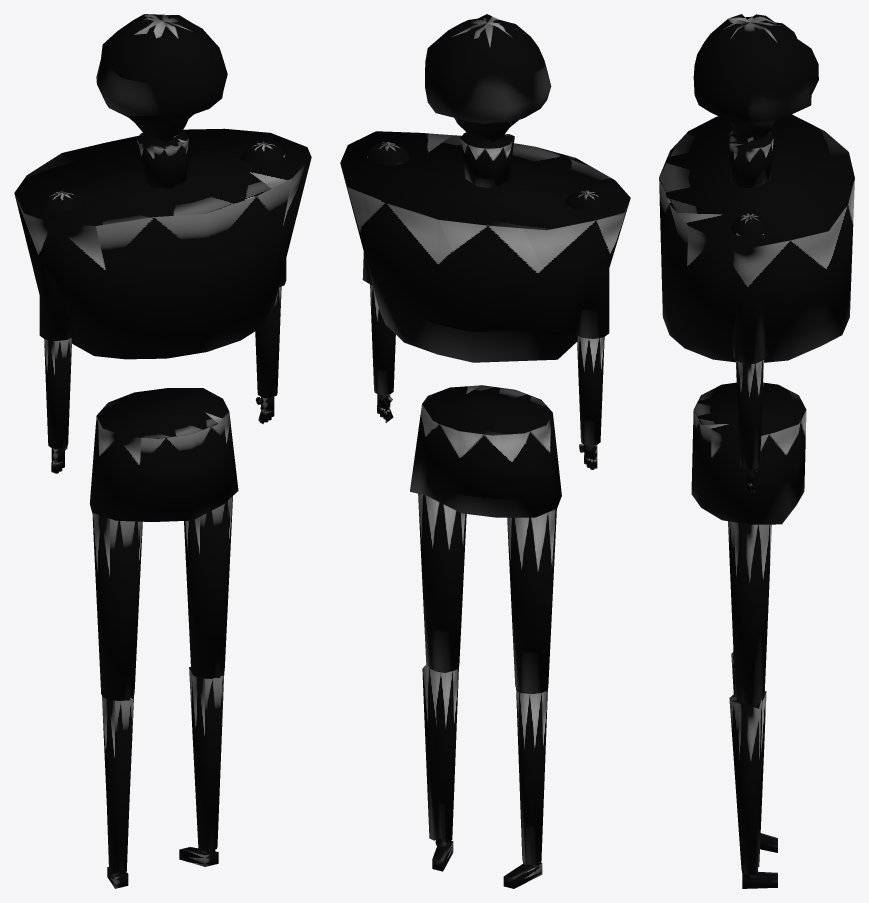
The model's file is zombie_brute_1.glb.
The picture shows the model from 3 angles, left to right: view 1: azimuth 30°, elevation 25°; view 2: azimuth 150°, elevation 25°; view 3: azimuth 270°, elevation 25°; orthographic projection.
Visible parts, largest first — view 1: zombie_brute_1; view 2: zombie_brute_1; view 3: zombie_brute_1.
Boxes of the visible parts, <box> form: zombie_brute_1: <box>14,14,311,888</box>; zombie_brute_1: <box>340,14,630,888</box>; zombie_brute_1: <box>659,14,854,888</box>.
Bounding box in the file's own units: 0.7053 × 2.05 × 0.43.
1 material, 1 textured.
